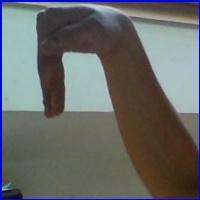A: (34, 7, 152, 129)
